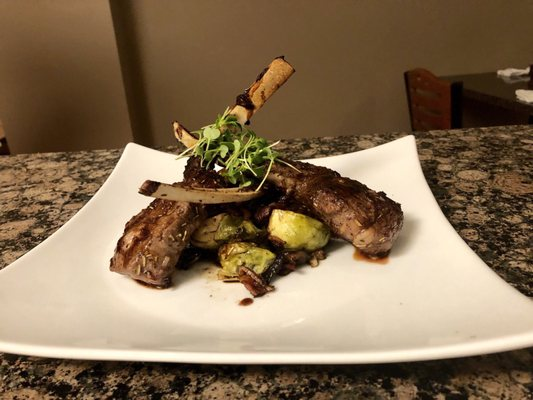curry: (9, 115, 532, 387)
pasta: (404, 68, 533, 133)
